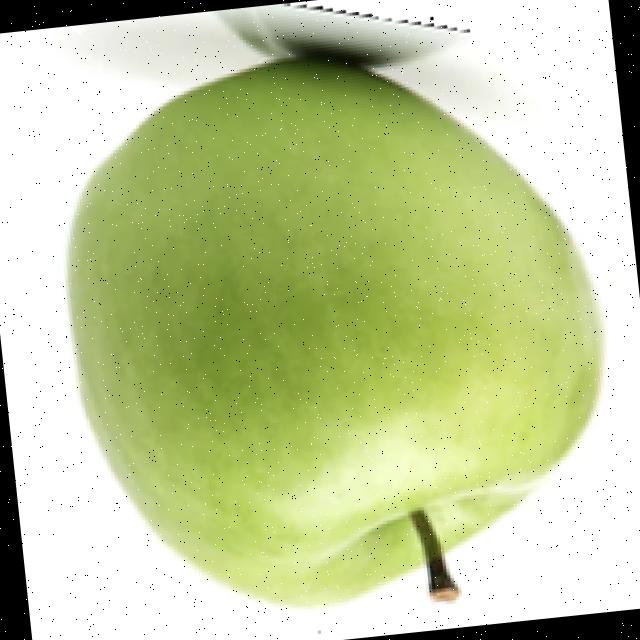apple: (59, 3, 608, 612)
